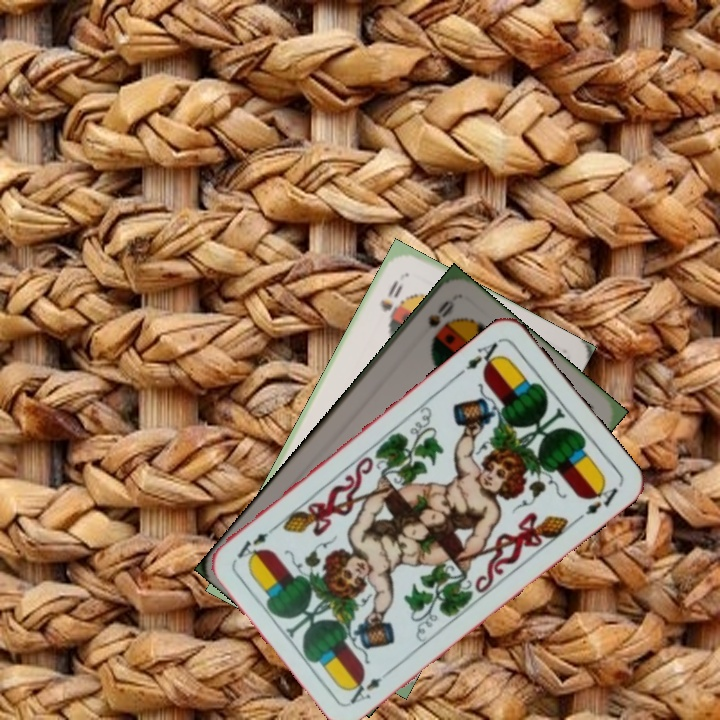EA: (345, 664, 396, 707), (454, 338, 506, 379)
SO: (376, 275, 406, 315), (424, 295, 457, 331)
